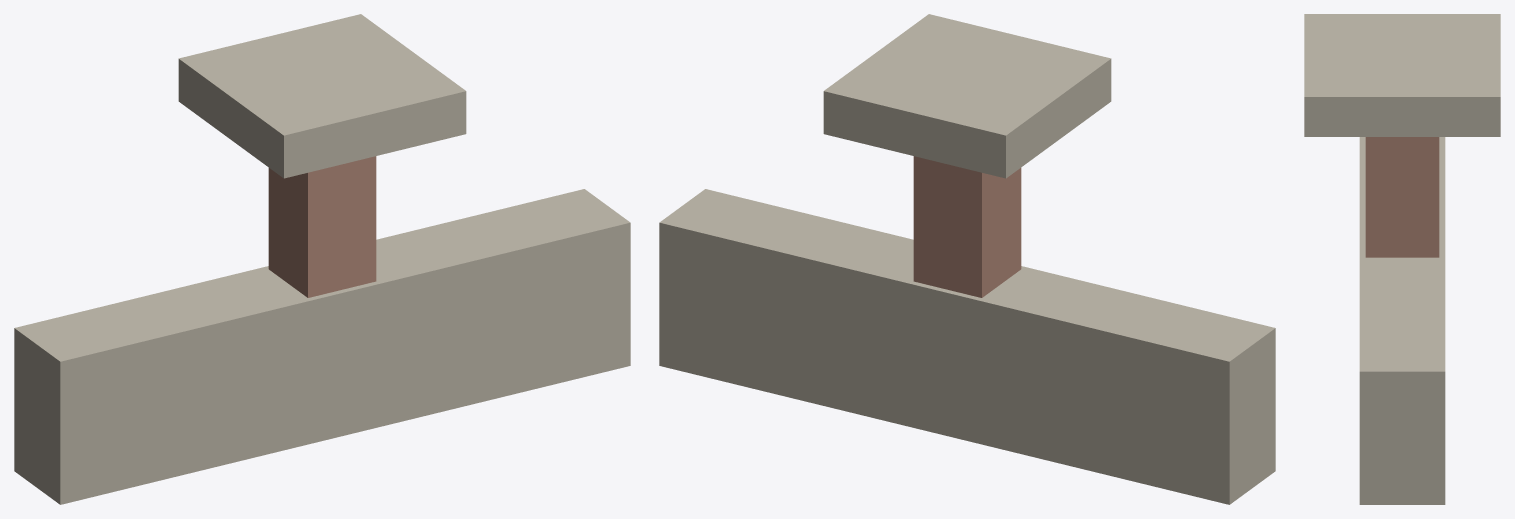
The model's file is iz3_historic_detail_02.glb.
3 views of the same model, side by side, from view 1: azimuth 30°, elevation 25°; view 2: azimuth 150°, elevation 25°; view 3: azimuth 270°, elevation 25° (orthographic). The views are drawn at different scales.
Visible parts, largest first — view 1: basin, bowl, pedestal; view 2: basin, bowl, pedestal; view 3: bowl, basin, pedestal.
Part boxes in pixels (x1,y1,x2,y2): basin: (14, 189, 630, 504); bowl: (178, 14, 466, 178); pedestal: (268, 156, 376, 297); basin: (659, 189, 1275, 504); bowl: (823, 14, 1111, 178); pedestal: (913, 156, 1021, 297); bowl: (1304, 14, 1500, 136); basin: (1359, 137, 1445, 504); pedestal: (1365, 137, 1439, 257).
Bounding box in the file's own units: 2.5 × 1.44 × 0.8.
